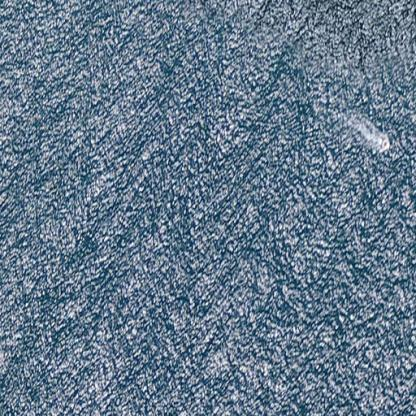ship: (366, 127, 400, 158)
